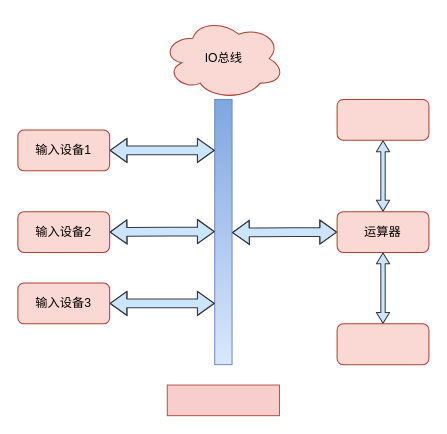
Image size: 447x434. Some labels were removed from this diagram. The centre of each missing label's shape, as x and y in pixels:
存储器: (382,119)
总线链接: (222,400)
控制器: (382,344)
